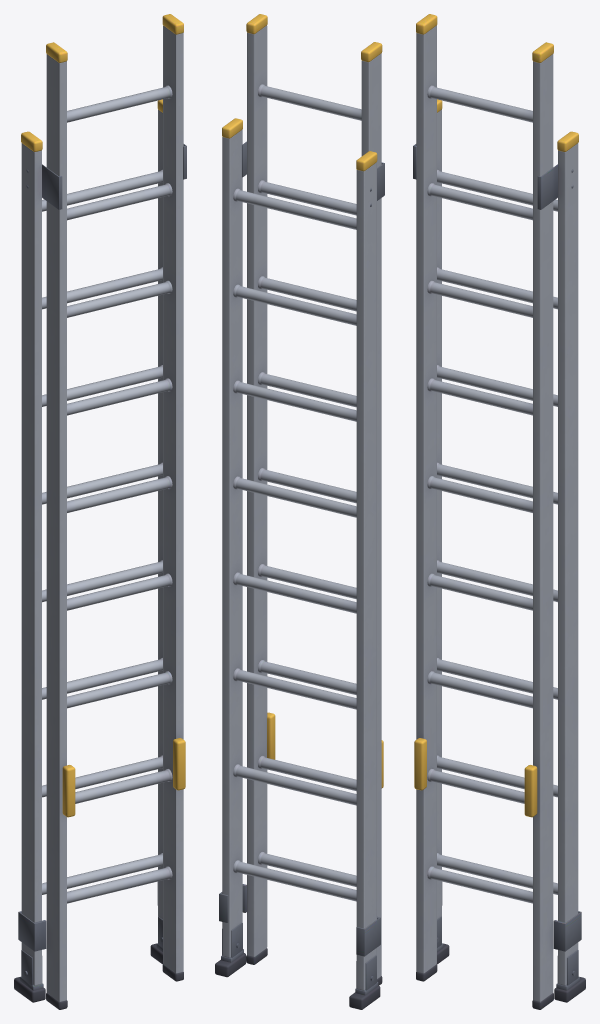
File: grab3d-ladder.glb
3 views of the same model, side by side, from view 1: azimuth 30°, elevation 25°; view 2: azimuth 150°, elevation 25°; view 3: azimuth 330°, elevation 25° (orthographic).
Visible parts, largest first — view 1: ladder_fly_section, ladder_body; view 2: ladder_body, ladder_fly_section; view 3: ladder_fly_section, ladder_body.
Boxes of the visible parts, x1=… form: ladder_fly_section: x1=18, y1=14, x2=185, y2=1009; ladder_body: x1=14, y1=99, x2=186, y2=1002; ladder_body: x1=215, y1=118, x2=384, y2=1009; ladder_fly_section: x1=219, y1=14, x2=383, y2=985; ladder_fly_section: x1=414, y1=14, x2=581, y2=1009; ladder_body: x1=413, y1=99, x2=585, y2=1002.
Size of the model in its own units: 0.452 by 2.75 by 0.199.
Materials: 2 (2 with a texture image).
